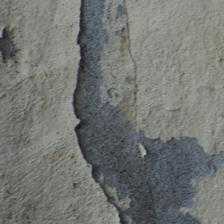Crack: (70, 6, 128, 221)
